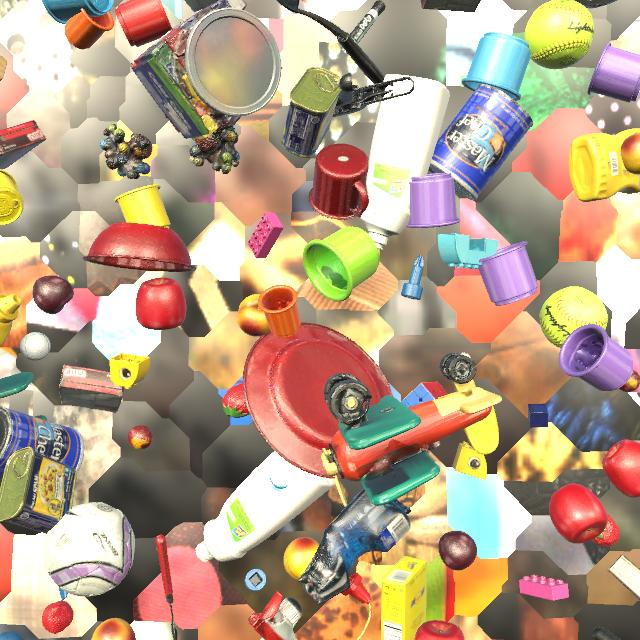ycb_002_master_chef_can: (428, 84, 533, 201), (0, 406, 84, 478)
ycb_004_sugar_box: (381, 556, 427, 640)
ycb_006_mustard_bottle: (568, 128, 640, 202), (0, 294, 22, 347)
ycb_008_pudding_box: (59, 364, 125, 413), (0, 120, 46, 170), (608, 554, 640, 600), (184, 0, 247, 13), (420, 0, 481, 13)
ycb_010_potted_meat_can: (0, 447, 76, 534), (281, 67, 342, 158)
ycb_012_strawberry: (42, 601, 74, 634), (222, 383, 249, 418), (592, 514, 620, 547)
ycb_013_apple: (549, 484, 608, 544), (135, 277, 186, 330), (602, 440, 640, 498), (414, 620, 465, 640)
ycb_015_peach: (283, 537, 319, 580), (237, 294, 271, 337), (91, 618, 136, 640), (621, 133, 640, 174)
ycb_018_plum: (33, 275, 74, 314), (438, 530, 477, 571)
